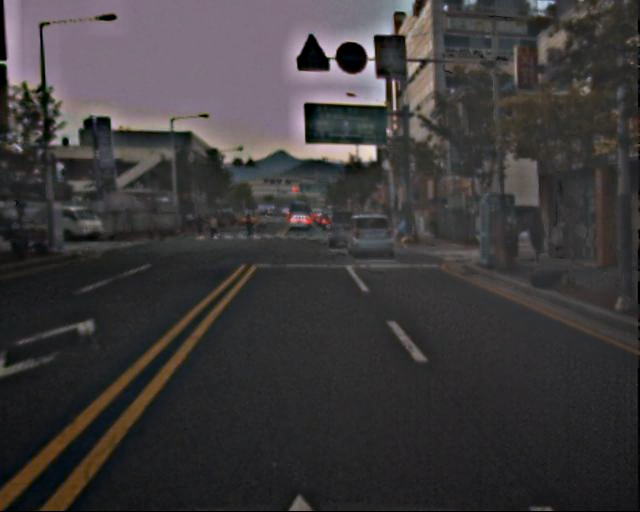person: (528, 213, 547, 259), (210, 214, 221, 240), (195, 212, 206, 238), (246, 215, 256, 239)
